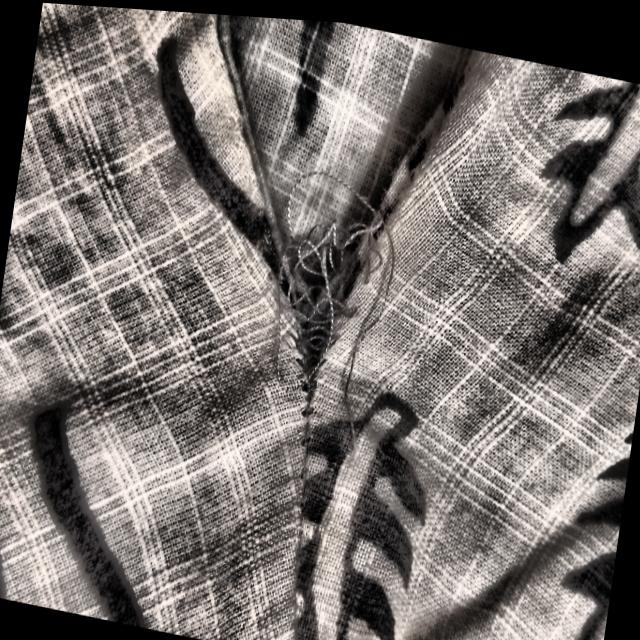Stitch: (234, 138, 415, 493)
